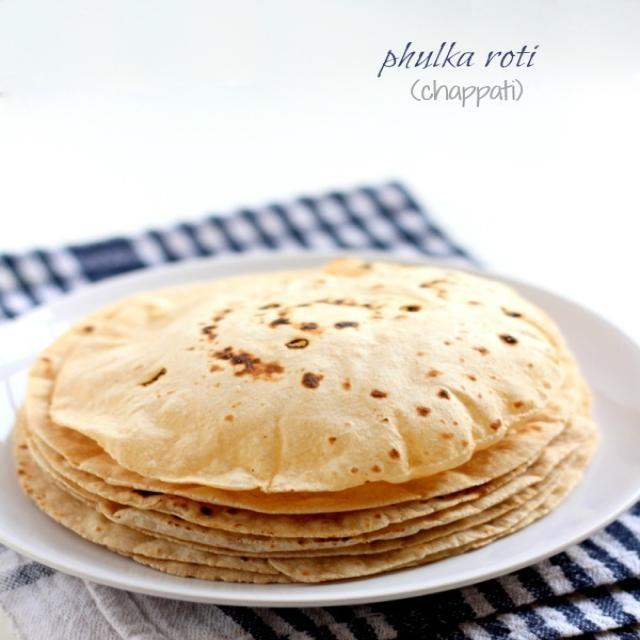ROTI: (49, 260, 583, 499), (15, 340, 595, 555), (16, 441, 581, 583)
